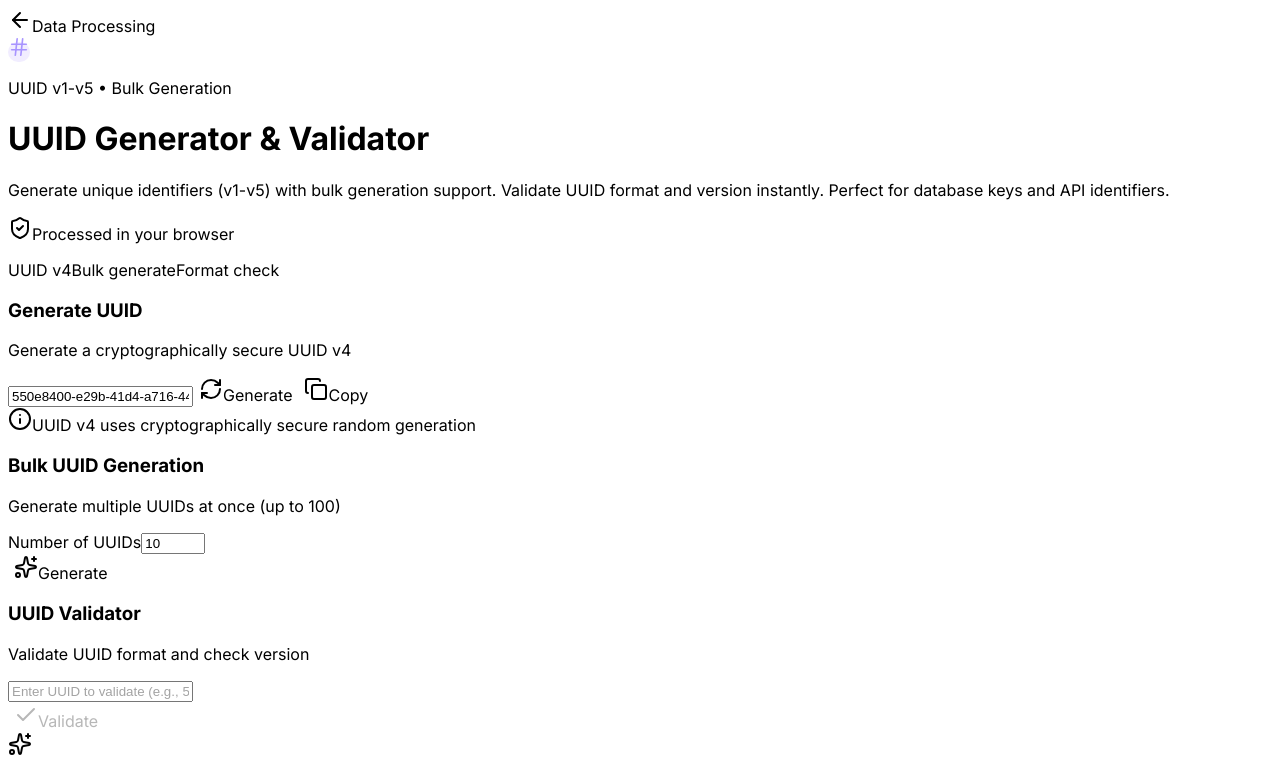
Test: UUID Generator Page › Bulk UUID Generation › displays generated UUIDs in textarea
The width and height of the screenshot is (1280, 773).
Replace the text in the number field labelled "Number of UUIDs" with "3" at (173, 543), box [141,533,205,554]
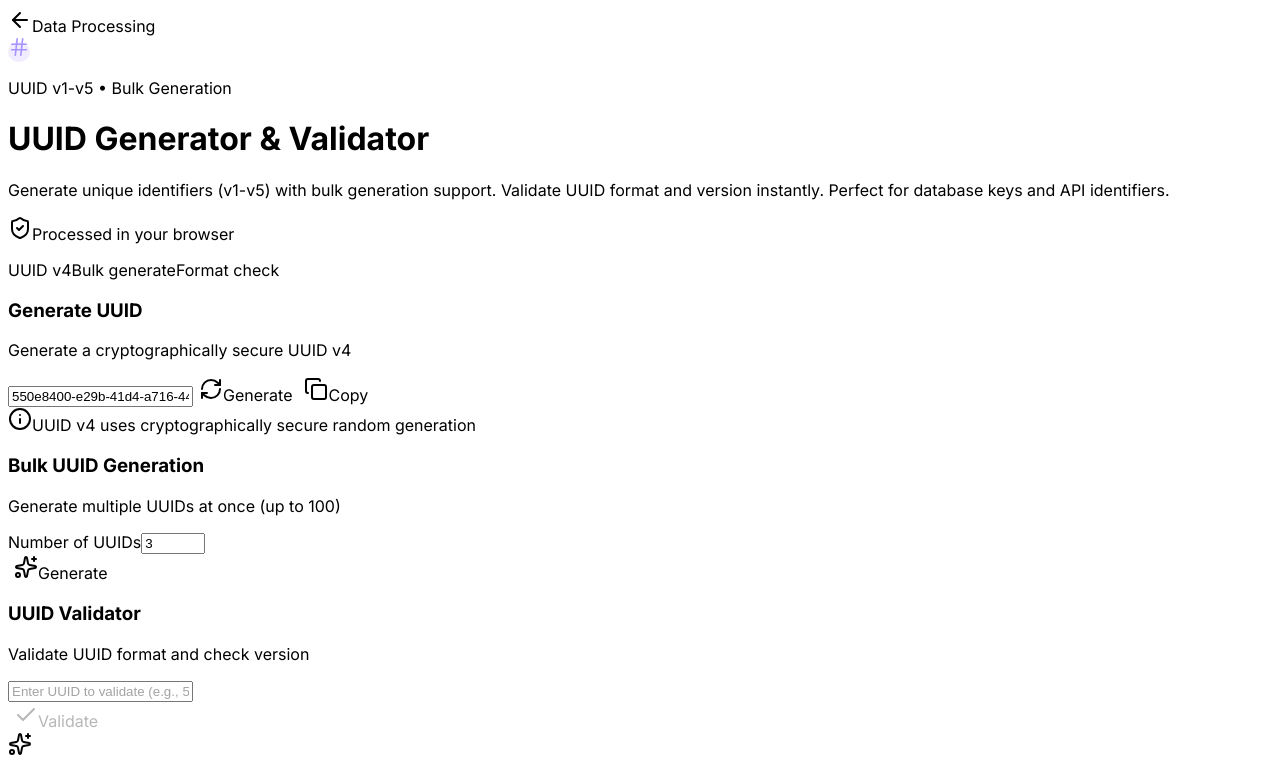
Click the button "Generate" below "Number of UUIDs" at (61, 569), box [8,554,114,584]
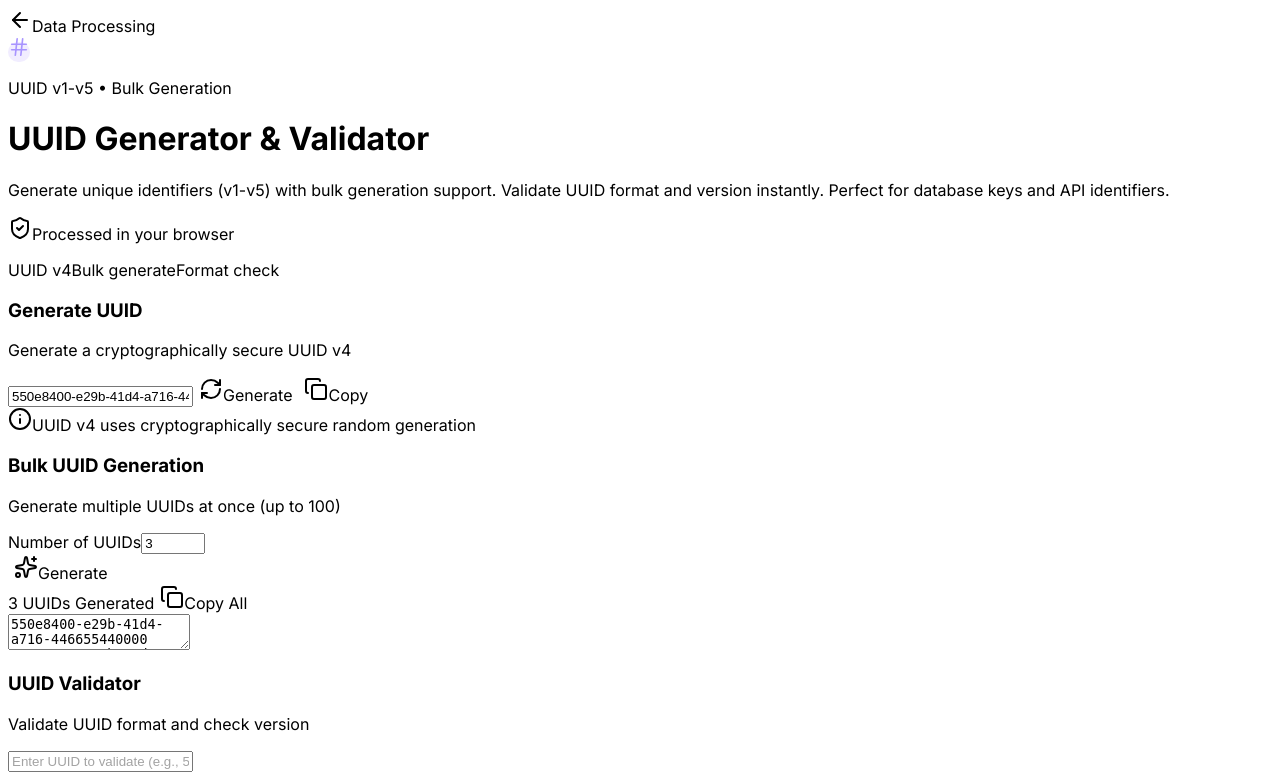
Result: the text "3 UUIDs Generated" is shown at [8,593,154,613]
Result: the text box is shown at [8,614,190,650]
